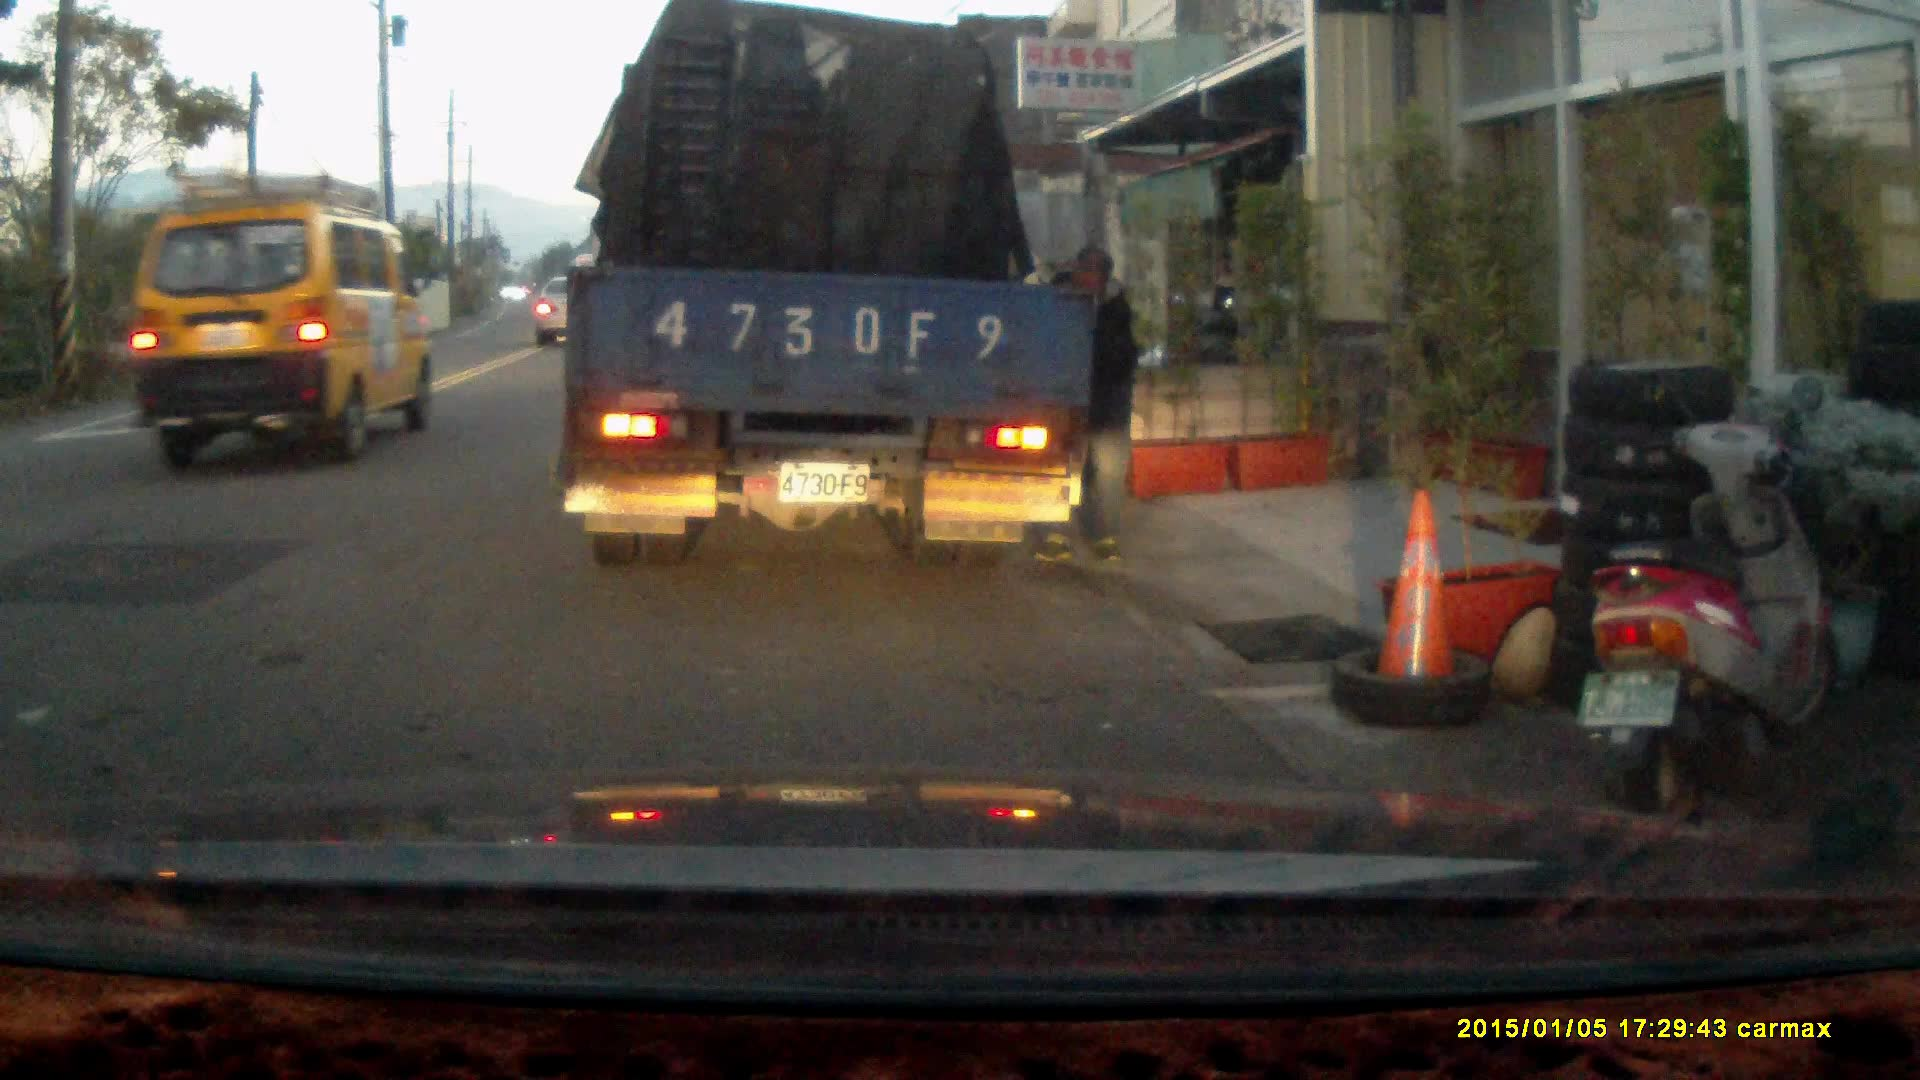pedestrian: (1026, 250, 1136, 564)
vehicle: (561, 24, 1083, 561), (126, 169, 431, 468), (535, 277, 596, 346)
